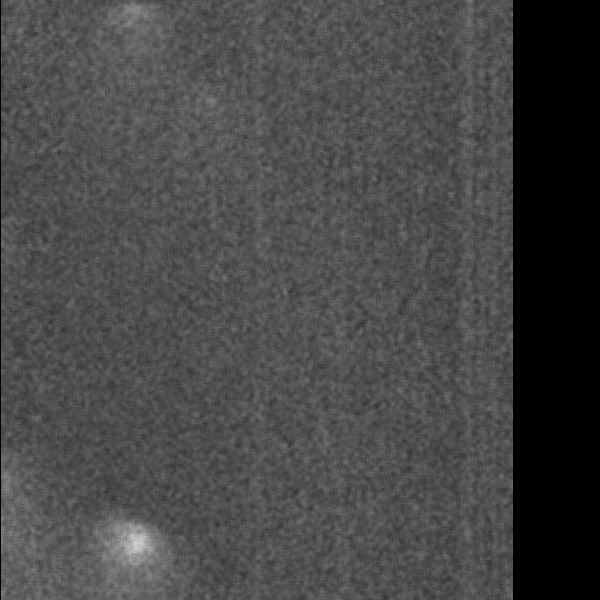spark: (98, 514, 171, 598), (95, 1, 151, 36), (191, 90, 218, 119)
